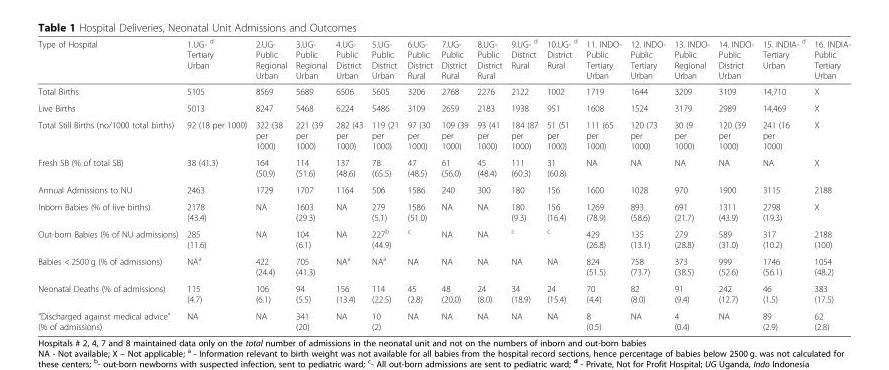table: (38, 37, 850, 331)
table column: (38, 37, 182, 331), (182, 37, 251, 331), (758, 37, 810, 331), (582, 37, 626, 331), (626, 37, 670, 331), (670, 37, 714, 331), (714, 37, 758, 331), (251, 37, 291, 331), (291, 37, 331, 331), (542, 37, 582, 331), (810, 37, 850, 331), (331, 37, 367, 331), (367, 37, 403, 331), (437, 37, 473, 331), (507, 37, 542, 331), (403, 37, 437, 331), (473, 37, 507, 331)
table column header: (38, 37, 850, 82)
table row: (38, 37, 850, 82), (38, 116, 850, 153), (38, 153, 850, 181), (38, 251, 850, 279), (38, 279, 850, 307), (38, 197, 850, 224), (38, 224, 850, 251), (38, 307, 850, 331), (38, 82, 850, 99), (38, 99, 850, 116), (38, 181, 850, 197)
